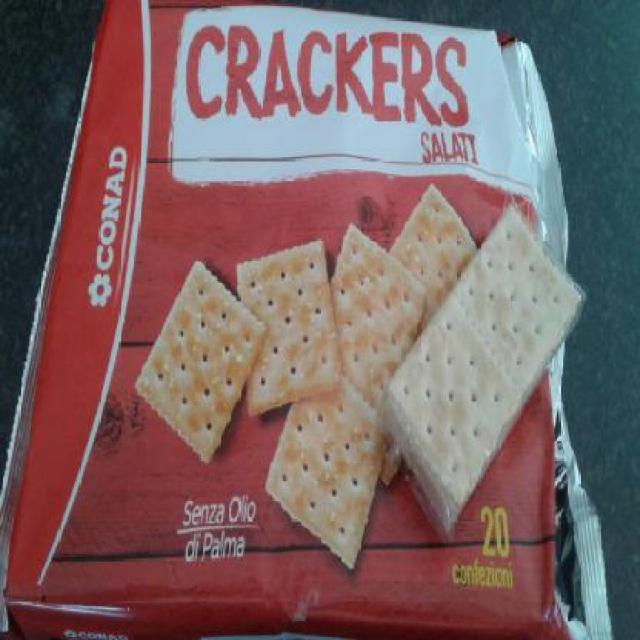Cracker: (9, 7, 611, 638), (380, 203, 591, 543)
